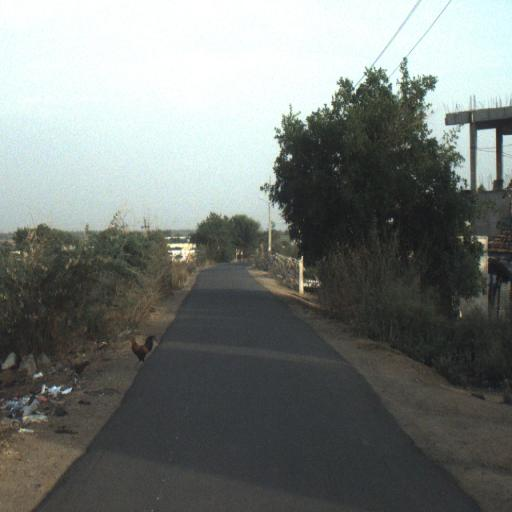street_light_0: (259, 196, 271, 212)
